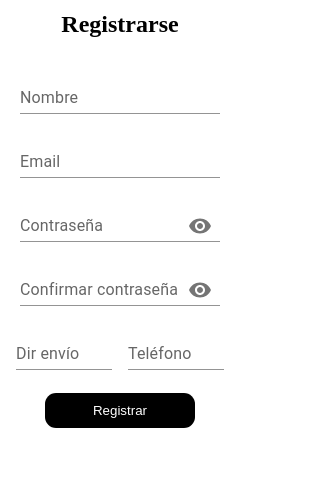
Test: Register component › U8F-002: Validación de campo email
This screenshot has width=320, height=485.
In the field labelled "Email": coordinates (120, 162) [20,146,220,178], type "abril@gmail."
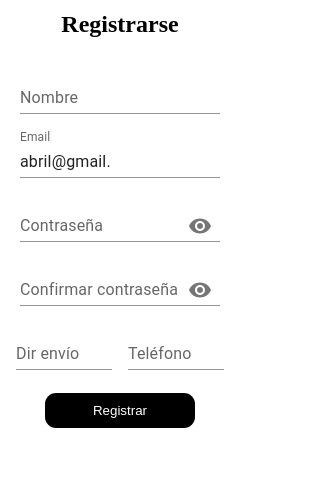
Click the button "Registrar": coordinates (120, 410) [45,393,195,428]
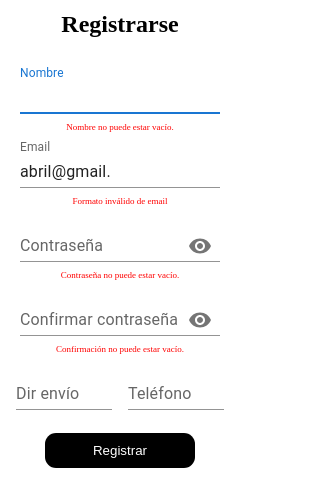
Now the text with test id "EmailAlerts" reads "Formato inválido de email", box [72,196,168,206]
